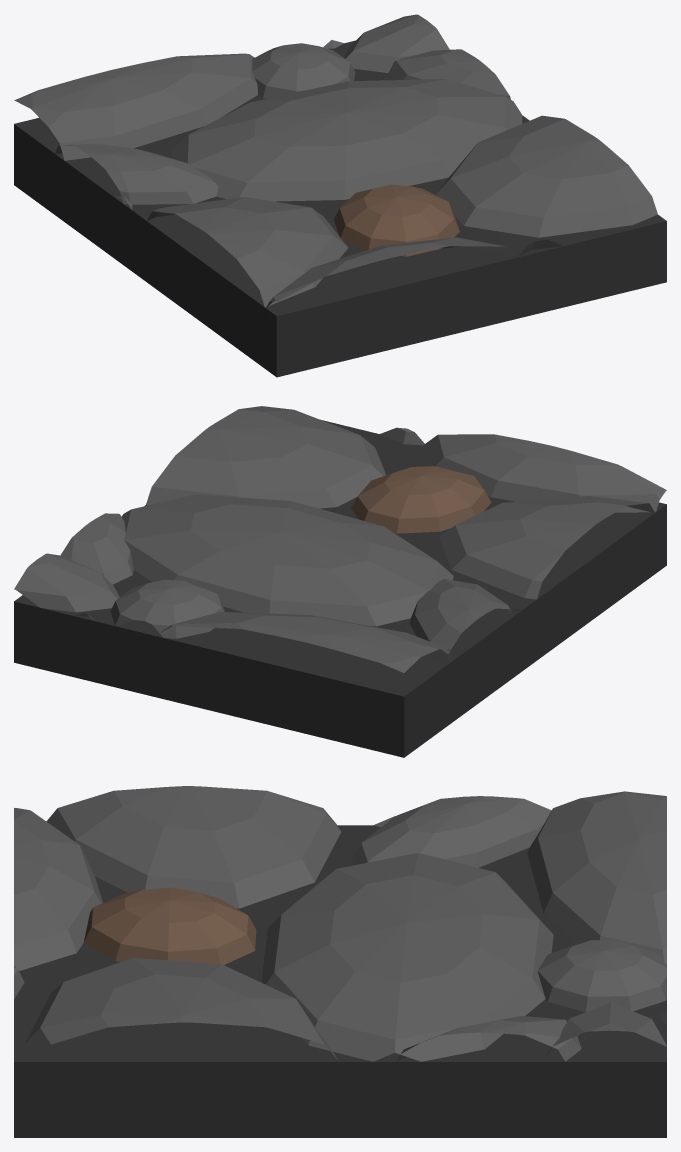
3 renders of one model, top to bottom at view 1: azimuth 30°, elevation 25°; view 2: azimuth 150°, elevation 25°; view 3: azimuth 270°, elevation 25°, orthographic. The views are drawn at different scales.
Visible parts, largest first — view 1: shapesz-t150; view 2: shapesz-t150; view 3: shapesz-t150.
Part boxes in pixels (bbox=[...]): shapesz-t150: bbox=[14, 14, 666, 377]; shapesz-t150: bbox=[14, 406, 666, 757]; shapesz-t150: bbox=[14, 786, 666, 1137].
Size of the model in its own units: 2 by 0.458 by 2.33.
